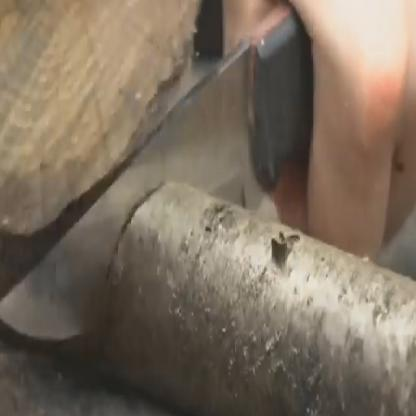knife: (0, 0, 371, 375)
